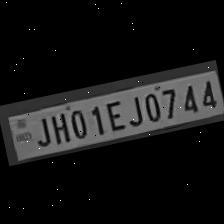0: (64, 104, 90, 140), (138, 88, 163, 122)
1: (84, 100, 106, 136)
4: (173, 79, 200, 115), (192, 75, 218, 109)
7: (155, 84, 179, 119)
E: (100, 96, 127, 132)
H: (44, 107, 71, 144)
J: (28, 112, 52, 147), (120, 91, 144, 126)
